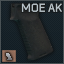AK Magpul MOE pistol grip: (0, 0, 64, 64)
